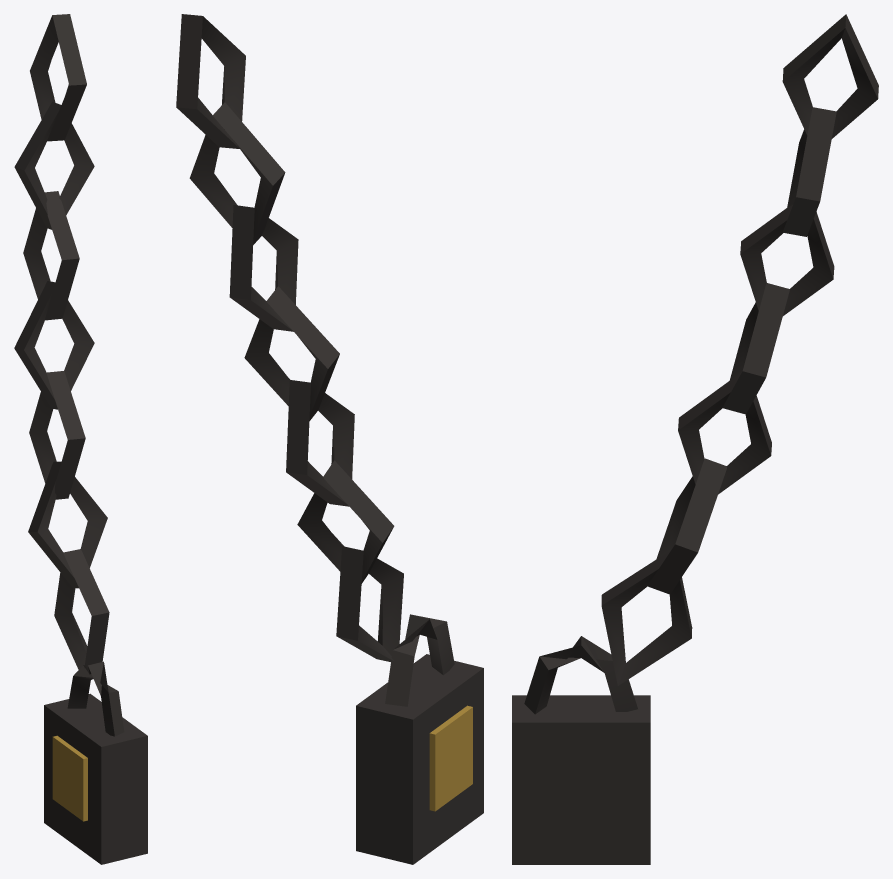
Rendered from dressing_chain.glb.
3 renders of one model, left to right at view 1: azimuth 30°, elevation 25°; view 2: azimuth 150°, elevation 25°; view 3: azimuth 270°, elevation 25°, orthographic. The views are drawn at different scales.
Parts seen in each view (by area): view 1: dressing_chain; view 2: dressing_chain; view 3: dressing_chain.
Boxes of the visible parts, box(x1,y1,x2,y2) form: dressing_chain: box(14, 14, 147, 864); dressing_chain: box(176, 14, 483, 864); dressing_chain: box(512, 14, 878, 864).
Bounding box in the file's own units: 0.0384 × 0.2305 × 0.0874.
